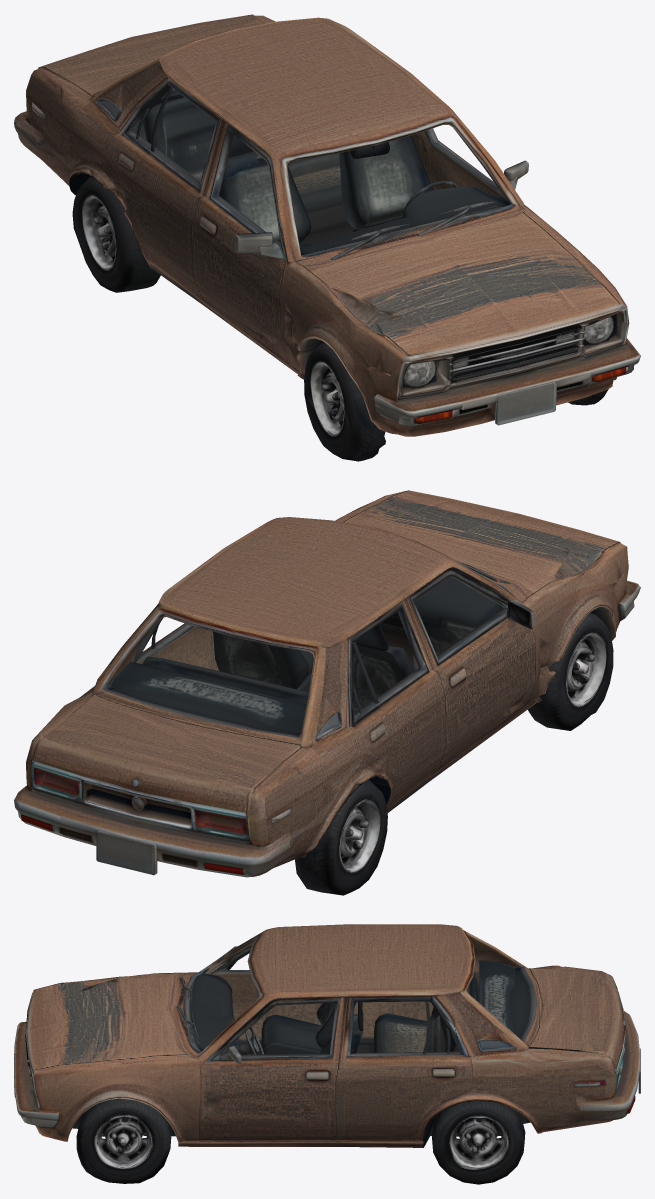
File: sedan_wreck.glb
3 views of the same model, one above another, from view 1: azimuth 30°, elevation 25°; view 2: azimuth 150°, elevation 25°; view 3: azimuth 270°, elevation 25° (orthographic). The views are drawn at different scales.
Parts seen in each view (by area): view 1: tripo_node_f66d774e-635d-499c-8f20-070b1d0d3716; view 2: tripo_node_f66d774e-635d-499c-8f20-070b1d0d3716; view 3: tripo_node_f66d774e-635d-499c-8f20-070b1d0d3716.
Part boxes in pixels (x1,y1,x2,y2): tripo_node_f66d774e-635d-499c-8f20-070b1d0d3716: (14, 14, 640, 461); tripo_node_f66d774e-635d-499c-8f20-070b1d0d3716: (14, 490, 640, 895); tripo_node_f66d774e-635d-499c-8f20-070b1d0d3716: (14, 924, 640, 1184).
Size of the model in its own units: 1.9 by 1.47 by 4.5.
Materials: 1 (1 with a texture image).
